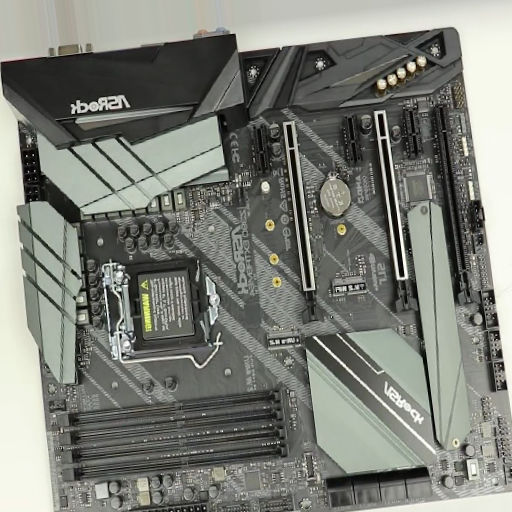CPU: (104, 257, 224, 356)
GPU: (280, 121, 325, 324), (374, 110, 419, 313)
MOTHERBOARD: (1, 30, 512, 509)
RAM: (49, 387, 300, 482)
SSD: (329, 273, 370, 300), (267, 324, 304, 352)
